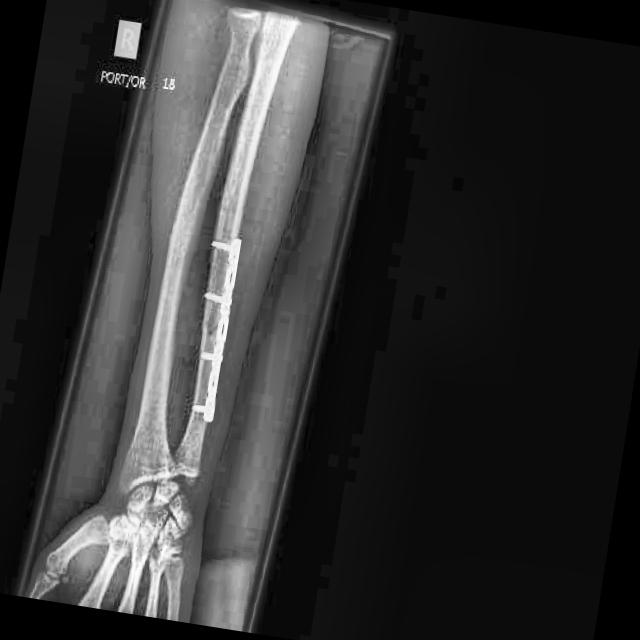forearm fracture: (200, 303, 224, 348)
